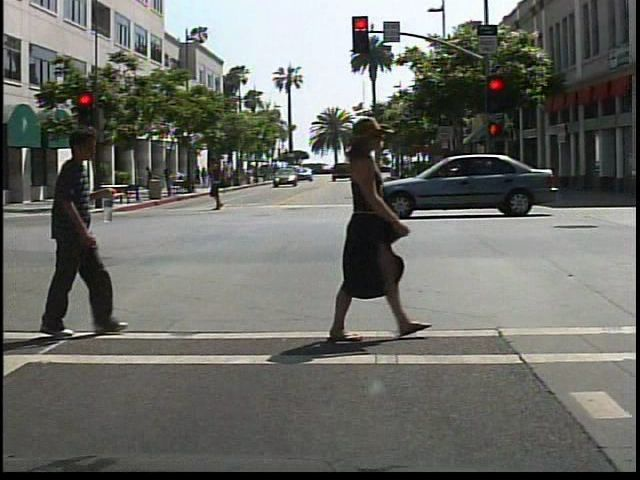person: (303, 123, 427, 349), (31, 129, 119, 341), (206, 155, 233, 213), (143, 164, 164, 201)
